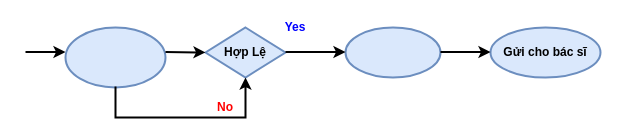
This 618x135 diagram has some shape labels left out. The centre of each missing label's shape, as x and y in pixels:
Phản hồi kết quả xét nghiệm: (392,52)
Đăng Nhập: (115,57)
